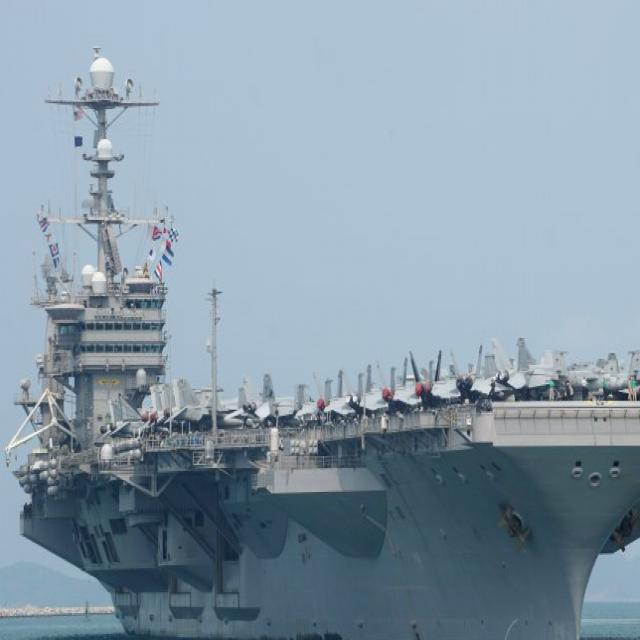Portanaves: (4, 35, 640, 640)
